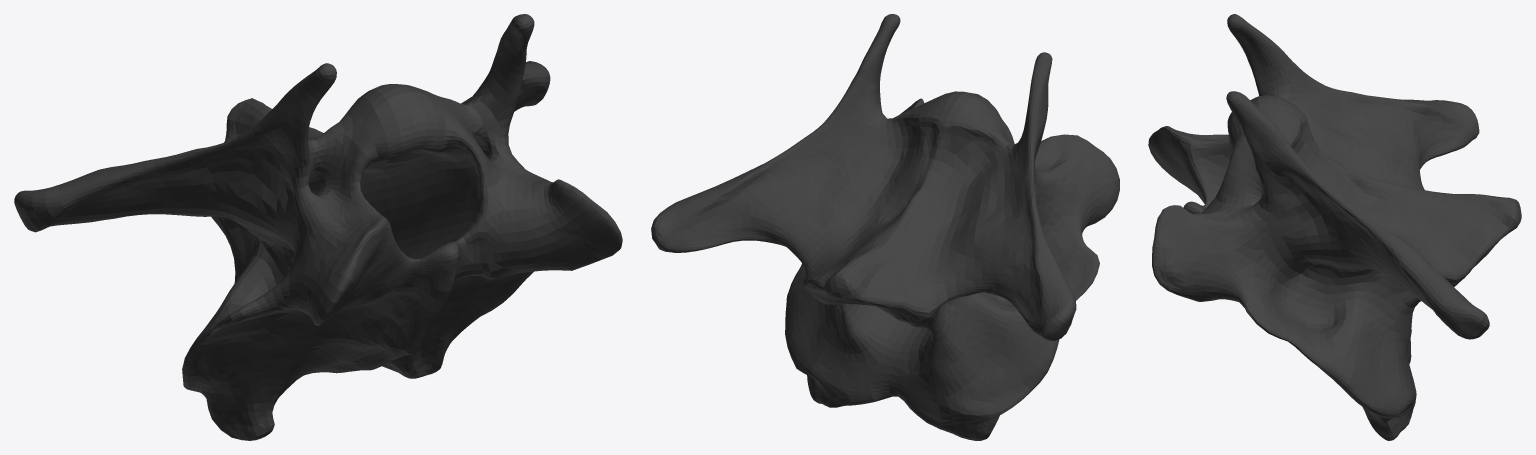
3 renders of one model, left to right at view 1: azimuth 30°, elevation 25°; view 2: azimuth 150°, elevation 25°; view 3: azimuth 270°, elevation 25°, orthographic. The views are drawn at different scales.
Visible parts, largest first — view 1: c3_low; view 2: c3_low; view 3: c3_low.
Boxes of the visible parts, box(x1,y1,x2,y2) form: c3_low: box(14, 14, 622, 440); c3_low: box(651, 14, 1119, 440); c3_low: box(1148, 14, 1521, 440).
Size of the model in its own units: 62.78 by 49.47 by 47.14.
1 material, 1 textured.
